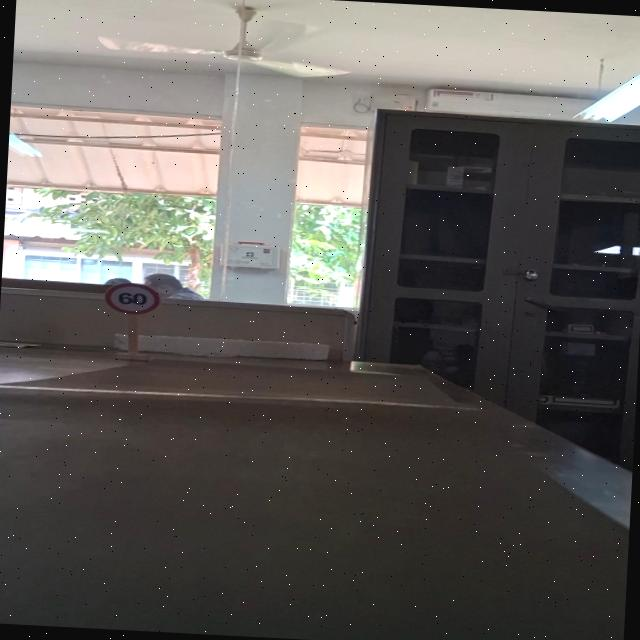Speed60: (101, 280, 163, 318)
